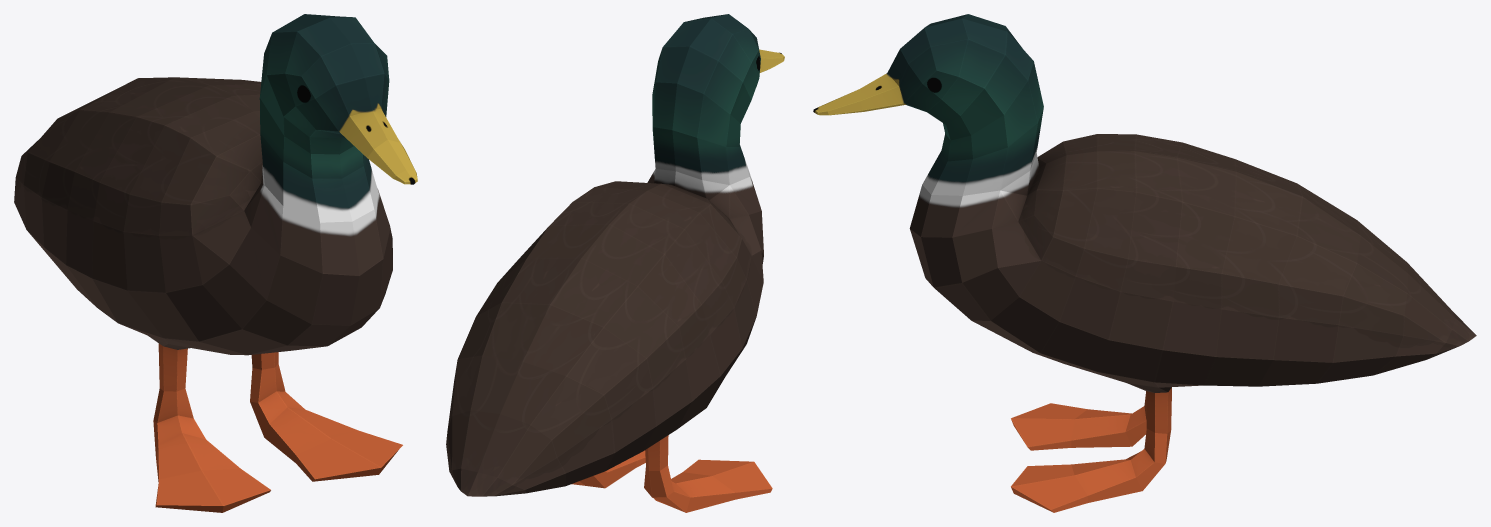
3 views of the same model, side by side, from view 1: azimuth 30°, elevation 25°; view 2: azimuth 150°, elevation 25°; view 3: azimuth 270°, elevation 25° (orthographic). The views are drawn at different scales.
Parts seen in each view (by area): view 1: MallardDuck_Mesh; view 2: MallardDuck_Mesh; view 3: MallardDuck_Mesh.
Part boxes in pixels (x1,y1,x2,y2): MallardDuck_Mesh: (14,14,417,512); MallardDuck_Mesh: (446,14,784,512); MallardDuck_Mesh: (813,14,1476,512).
Bounding box in the file's own units: 0.9816 × 1.87 × 2.55.
1 material, 1 textured.
